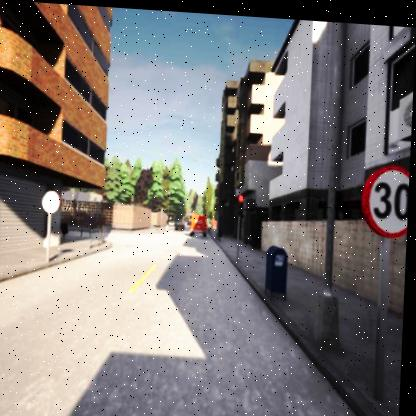vehicle: (190, 211, 210, 234), (177, 218, 188, 228)
